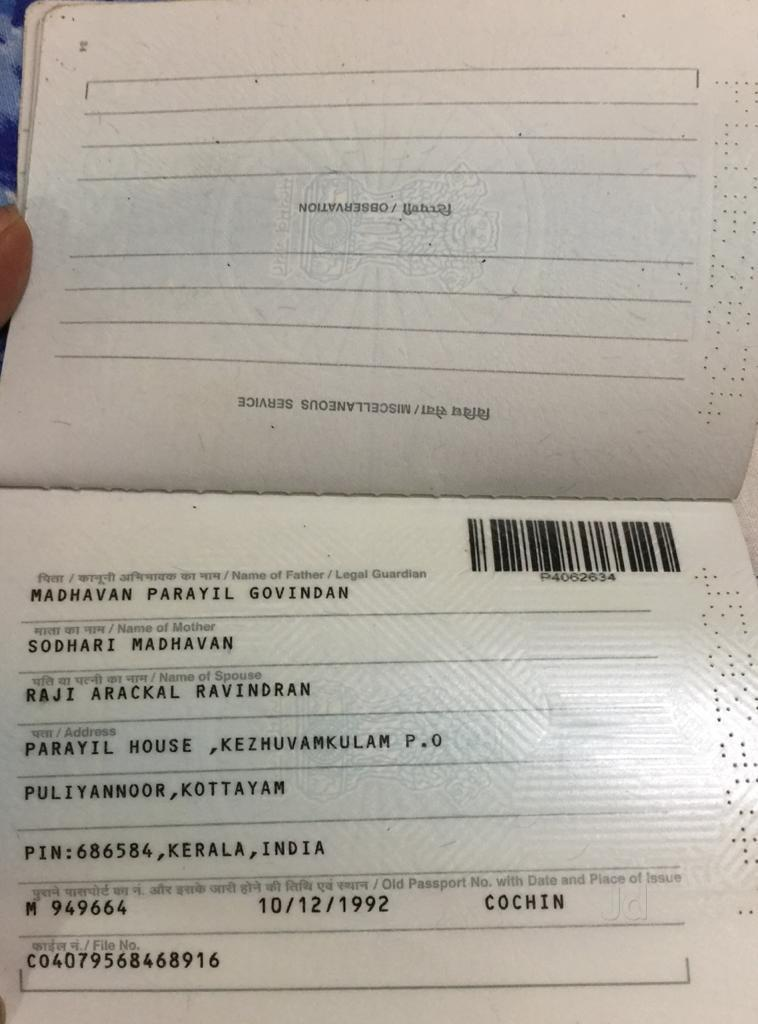File_no: (14, 948, 235, 977)
address: (15, 729, 461, 867)
father_name: (22, 580, 371, 612)
mother_name: (24, 626, 252, 662)
old_passport_details: (20, 888, 592, 921)
passport_no: (529, 566, 624, 593)
spouse_name: (18, 678, 334, 709)
